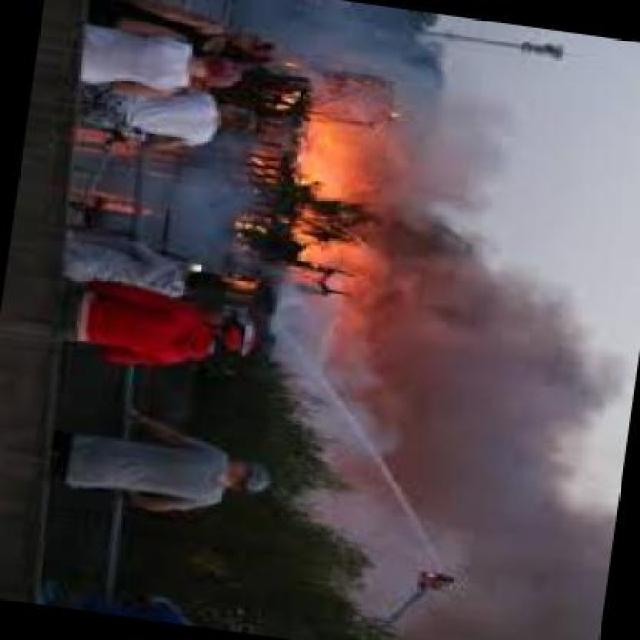Fire: (296, 109, 372, 298)
Smoke: (363, 238, 606, 640), (399, 77, 547, 225), (260, 1, 454, 68)
